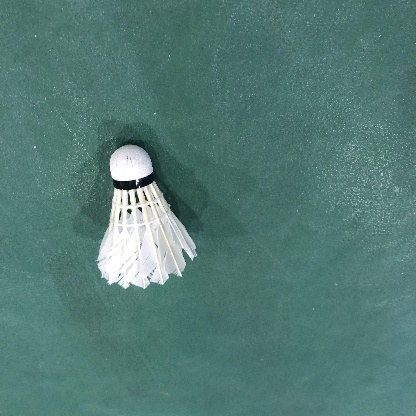ball_single: (97, 145, 198, 289)
